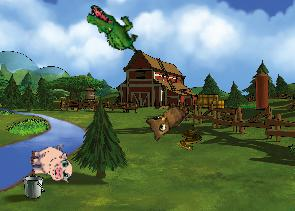crocodile: (79, 3, 147, 55)
owl: (140, 91, 191, 144)
pig: (29, 144, 72, 184)
